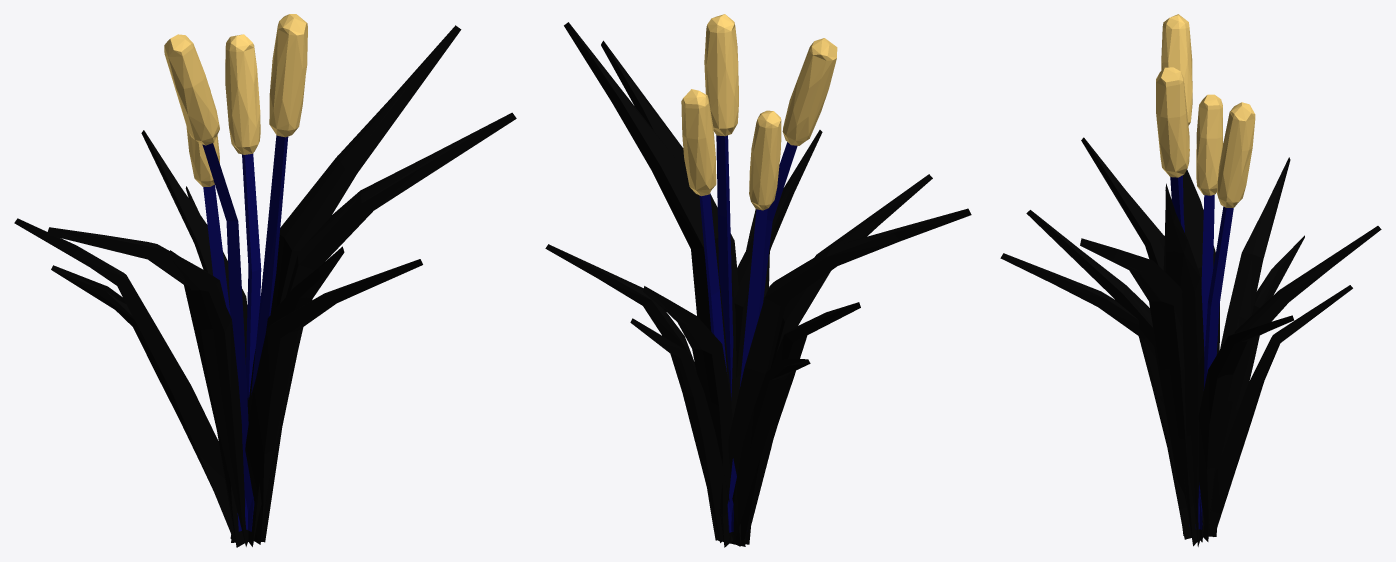
The model's file is PatchReed04.fbx.
3 renders of one model, left to right at view 1: azimuth 30°, elevation 25°; view 2: azimuth 150°, elevation 25°; view 3: azimuth 270°, elevation 25°, orthographic. The views are drawn at different scales.
Visible parts, largest first — view 1: Reed04; view 2: Reed04; view 3: Reed04.
Boxes of the visible parts, box(x1,y1,x2,y2) form: Reed04: box(14, 14, 516, 547); Reed04: box(545, 14, 971, 547); Reed04: box(1000, 14, 1381, 546).
Bounding box in the file's own units: 113 × 135 × 95.58.
